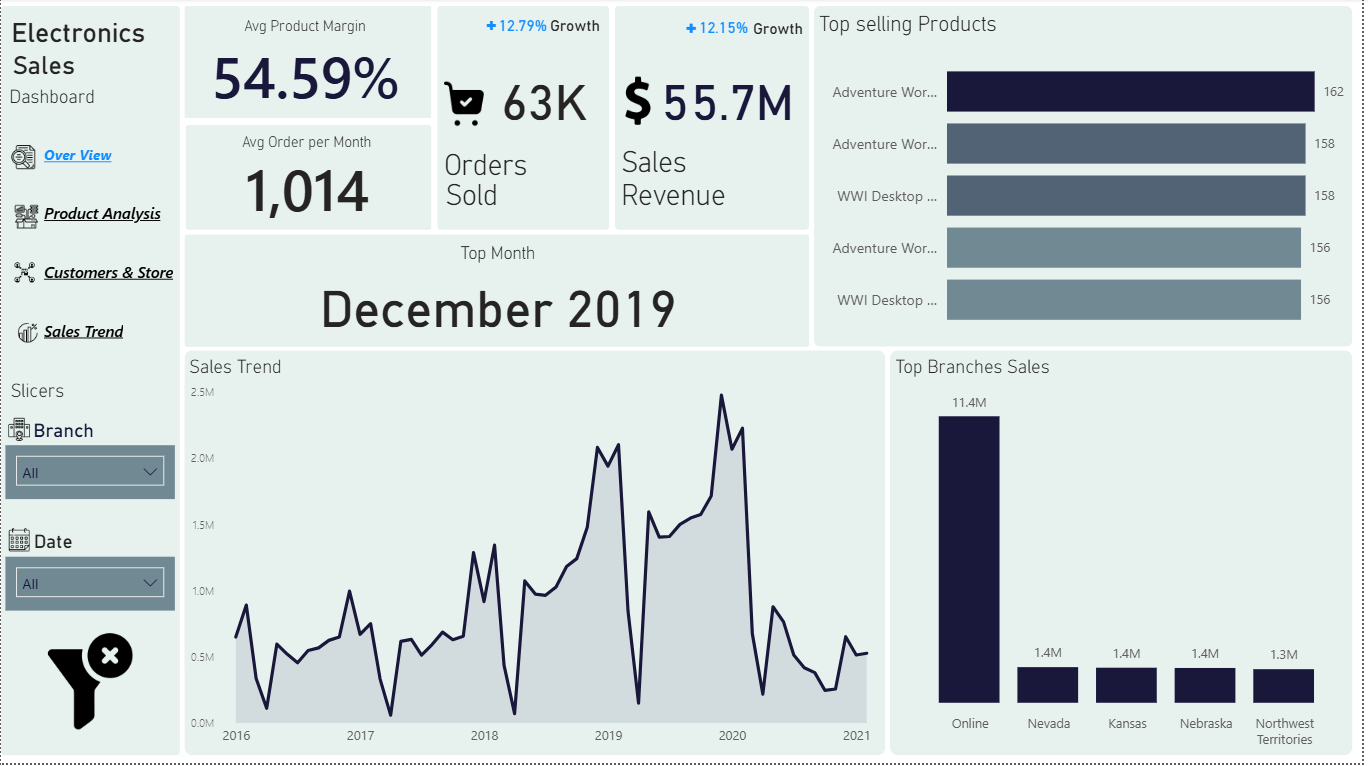

The page's visual inventory and layout, read from the dashboard file:
{"tool":"powerbi","page":{"name":"Over View","canvas":[1280,720],"ordinal":0},"visuals":[{"type":"shape","box":[0,7.3,168.3,705.3],"z":0},{"type":"shape","box":[836.2,331.4,435.2,381.2],"z":1000},{"type":"shape","box":[172.4,331.4,659.6,381.2],"z":2000},{"type":"shape","box":[764.5,7.3,506.9,321],"z":3000},{"type":"shape","box":[172.4,7.3,232.7,106],"z":4000},{"type":"clusteredBarChart","title":"Top selling Products","fields":{"Category":["Products.Product Name"],"Y":["CountNonNull(Sales.Order Number)"]},"box":[764.5,12.5,506.9,315.8],"z":5000},{"type":"columnChart","title":"Top Branches Sales","fields":{"Category":["Stores.State"],"Y":["measure.Revenue"]},"box":[836.2,335.5,435.2,377.1],"z":6000},{"type":"lineChart","title":"Sales Trend","fields":{"Category":["Sales.Order Date.Variation.Date Hierarchy.Year","Sales.Order Date.Variation.Date Hierarchy.Month"],"Y":["measure.Revenue"]},"box":[172.4,335.5,659.6,376],"z":7000},{"type":"card","title":"Avg Product Margin","fields":{"Values":["measure.Margin"]},"box":[172.4,17.7,227.5,95.6],"z":8000},{"type":"shape","box":[173.5,119.5,231.6,98.7],"z":9000},{"type":"shape","box":[172.4,222.3,587.9,106],"z":10000},{"type":"card","title":"Avg Order per Month","fields":{"Values":["measure.Avg Order Per Month"]},"box":[174.5,126.7,226.5,91.4],"z":11000},{"type":"card","title":"Top Month","fields":{"Values":["measure.Top Month"]},"box":[174.5,230.6,585.9,97.6],"z":12000},{"type":"shape","box":[410.3,7.3,162,210.9],"z":13000},{"type":"shape","box":[577.6,7.3,182.8,210.9],"z":14000},{"type":"card","fields":{"Values":["measure.Revenue"]},"box":[604.6,47.8,155.8,88.3],"z":15000},{"type":"card","fields":{"Values":["measure.Revenue Growth YoY"]},"box":[650.3,7.3,58.2,41.5],"z":16000},{"type":"card","fields":{"Values":["measure.Measure"]},"box":[700,8.9,61.1,40],"z":17000},{"type":"card","fields":{"Values":["Title.Sales"]},"box":[577.6,127.8,72.7,48.8],"z":18000},{"type":"card","fields":{"Values":["Title.Revenue"]},"box":[575.5,154.8,113.2,57.1],"z":19000},{"type":"image","box":[570.3,68.6,57.1,56.1],"z":20000},{"type":"card","fields":{"Values":["measure.orders"]},"box":[450.8,64.4,119.5,56.1],"z":21000},{"type":"card","fields":{"Values":["Title.Order"]},"box":[408.2,122.6,94.5,64.4],"z":22000},{"type":"card","fields":{"Values":["Title.Sold"]},"box":[405.1,153.7,74.8,59.2],"z":23000},{"type":"image","box":[405.1,68.6,61.3,60.2],"z":24000},{"type":"card","fields":{"Values":["measure.Measure"]},"box":[509,7.3,61.3,39.5],"z":25000},{"type":"card","fields":{"Values":["measure.Orders Growth YoY"]},"box":[457.8,12.9,64.6,28.2],"z":26000},{"type":"card","fields":{"Values":["Title.+"]},"box":[635.9,9.4,25.9,28.2],"z":27000},{"type":"card","fields":{"Values":["Title.+"]},"box":[447.7,7.7,26.1,28.5],"z":28000},{"type":"slicer","fields":{"Values":["Stores.State"]},"box":[4.4,420.3,159,51.1],"z":29000},{"type":"card","fields":{"Values":["Title.Branch"]},"box":[20.4,393.7,75.6,26.7],"z":30000},{"type":"image","box":[0.4,389.2,34,32],"z":31000},{"type":"slicer","fields":{"Values":["Sales.Order Date.Variation.Date Hierarchy.Year","Sales.Order Date.Variation.Date Hierarchy.Month"]},"box":[4.4,525.5,159,51],"z":32000},{"type":"image","box":[0.4,493.5,34,32],"z":33000},{"type":"card","fields":{"Values":["Title.Date"]},"box":[23.4,493.5,50,36],"z":34000},{"type":"card","fields":{"Values":["Title.Dashboard"]},"box":[0,58.9,95.6,65.6],"z":35000},{"type":"card","fields":{"Values":["Title.Electronics"]},"box":[0,8.9,144.4,43.3],"z":36000},{"type":"card","fields":{"Values":["Title.Sales"]},"box":[0,41.1,80,41.1],"z":37000},{"type":"card","fields":{"Values":["Title.Slicers"]},"box":[0,348.7,67.8,40],"z":38000},{"type":"image","box":[33.3,592.2,102.2,101.1],"z":39000},{"type":"image","box":[4.3,133.3,33,33],"z":40000},{"type":"image","box":[7.8,188.9,33,33],"z":41000},{"type":"image","box":[7.9,297.6,33,33],"z":42000},{"type":"image","box":[7.6,237.1,29.4,42.4],"z":43000},{"type":"pageNavigator","box":[40.4,124.7,124.7,211.2],"z":44001}]}

Visuals, with their boxes in screenshot pixels (x1, y1, x2, y2), scaled from the page's 1280x720 canvas onto the 1368x766 screenshot:
shape: Rect(0, 8, 180, 758)
shape: Rect(894, 353, 1359, 758)
shape: Rect(184, 353, 889, 758)
shape: Rect(817, 8, 1359, 349)
shape: Rect(184, 8, 433, 121)
"Top selling Products" clusteredBarChart: Rect(817, 13, 1359, 349)
"Top Branches Sales" columnChart: Rect(894, 357, 1359, 758)
"Sales Trend" lineChart: Rect(184, 357, 889, 757)
"Avg Product Margin" card: Rect(184, 19, 427, 121)
shape: Rect(185, 127, 433, 232)
shape: Rect(184, 237, 813, 349)
"Avg Order per Month" card: Rect(186, 135, 429, 232)
"Top Month" card: Rect(186, 245, 813, 349)
shape: Rect(439, 8, 612, 232)
shape: Rect(617, 8, 813, 232)
card - measure.Revenue: Rect(646, 51, 813, 145)
card - measure.Revenue Growth YoY: Rect(695, 8, 757, 52)
card - measure.Measure: Rect(748, 9, 813, 52)
card - Title.Sales: Rect(617, 136, 695, 188)
card - Title.Revenue: Rect(615, 165, 736, 225)
image: Rect(610, 73, 671, 133)
card - measure.orders: Rect(482, 69, 610, 128)
card - Title.Order: Rect(436, 130, 537, 199)
card - Title.Sold: Rect(433, 164, 513, 227)
image: Rect(433, 73, 498, 137)
card - measure.Measure: Rect(544, 8, 610, 50)
card - measure.Orders Growth YoY: Rect(489, 14, 558, 44)
card - Title.+: Rect(680, 10, 707, 40)
card - Title.+: Rect(478, 8, 506, 39)
slicer - Stores.State: Rect(5, 447, 175, 502)
card - Title.Branch: Rect(22, 419, 103, 447)
image: Rect(0, 414, 37, 448)
slicer - Sales.Order Date.Variation.Date Hierarchy.Year x Sales.Order Date.Variation.Date Hierarchy.Month: Rect(5, 559, 175, 613)
image: Rect(0, 525, 37, 559)
card - Title.Date: Rect(25, 525, 78, 563)
card - Title.Dashboard: Rect(0, 63, 102, 132)
card - Title.Electronics: Rect(0, 9, 154, 56)
card - Title.Sales: Rect(0, 44, 86, 87)
card - Title.Slicers: Rect(0, 371, 72, 414)
image: Rect(36, 630, 145, 738)
image: Rect(5, 142, 40, 177)
image: Rect(8, 201, 44, 236)
image: Rect(8, 317, 44, 352)
image: Rect(8, 252, 40, 297)
pageNavigator: Rect(43, 133, 176, 357)
